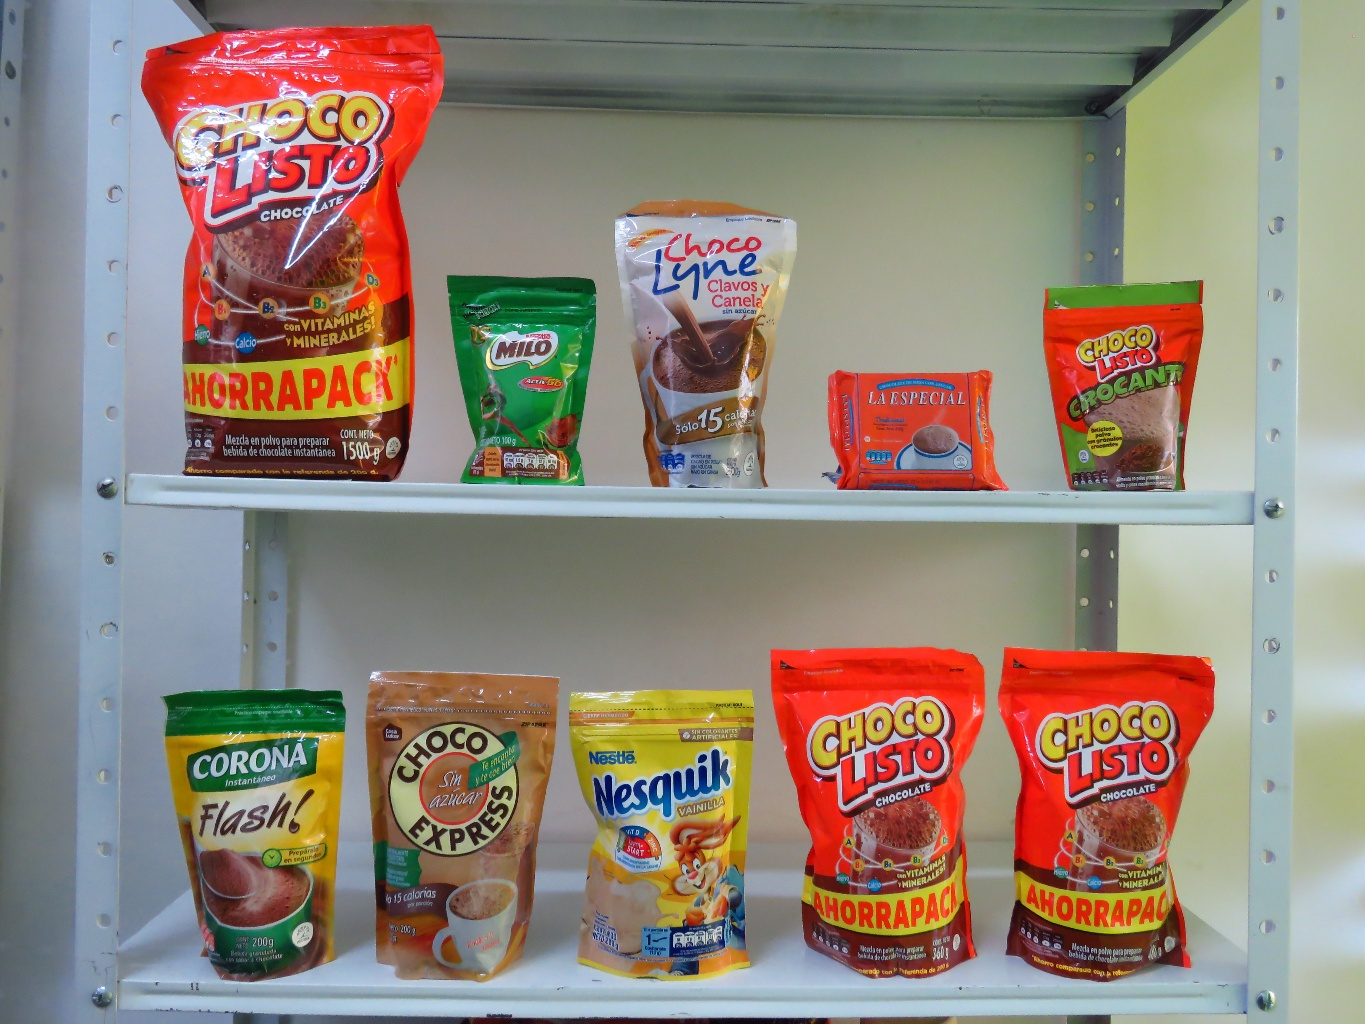COL0170102DYP10000: (1027, 269, 1228, 504)
COL0170103DYP1,500: (109, 3, 458, 487)
COL0170103DYP36000: (751, 631, 1004, 1000)
COL0170103DYP40000: (985, 623, 1226, 986)
COL0170203DYP10000: (446, 264, 605, 490)
COL0170306DYP20000: (568, 675, 780, 984)
